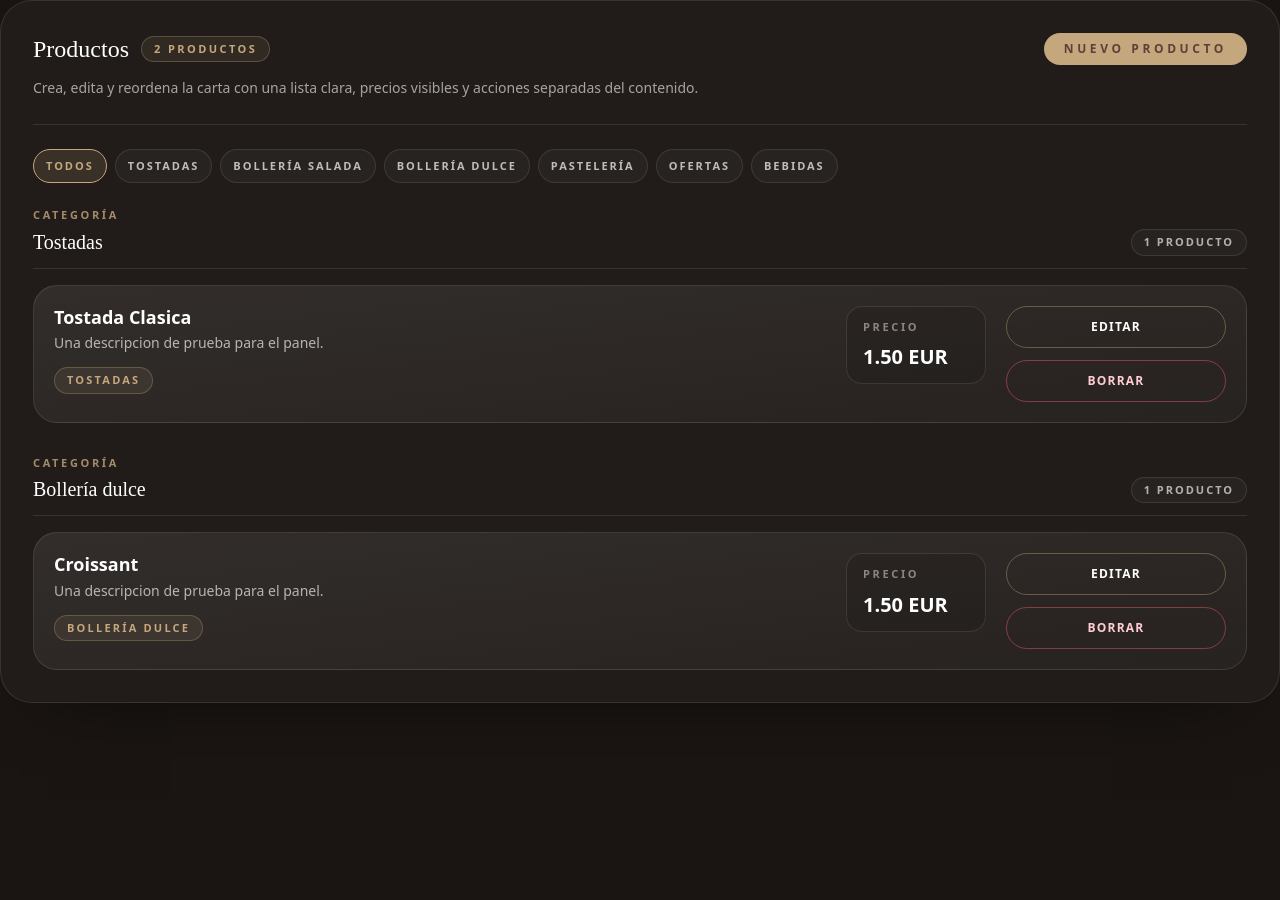
Test case: ProductCRUD › filtra la lista por categoria desde el panel admin
The width and height of the screenshot is (1280, 900).
Step 1. Click the button "Tostadas" → click(164, 166), box [115,149,212,183]
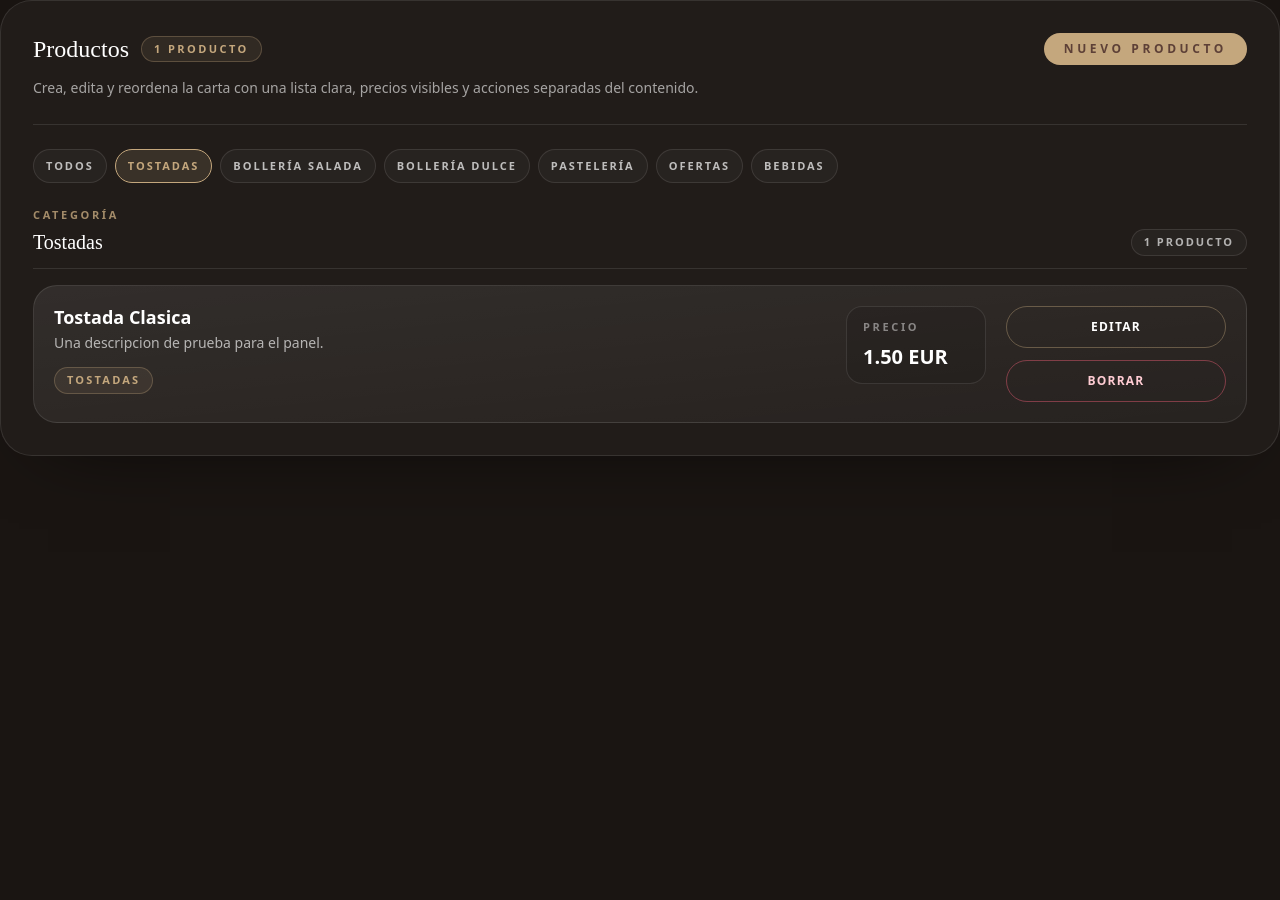
Expected: the text "Tostada Clasica" is shown, [54,305,191,329]
Result: the text "Croissant" is gone
